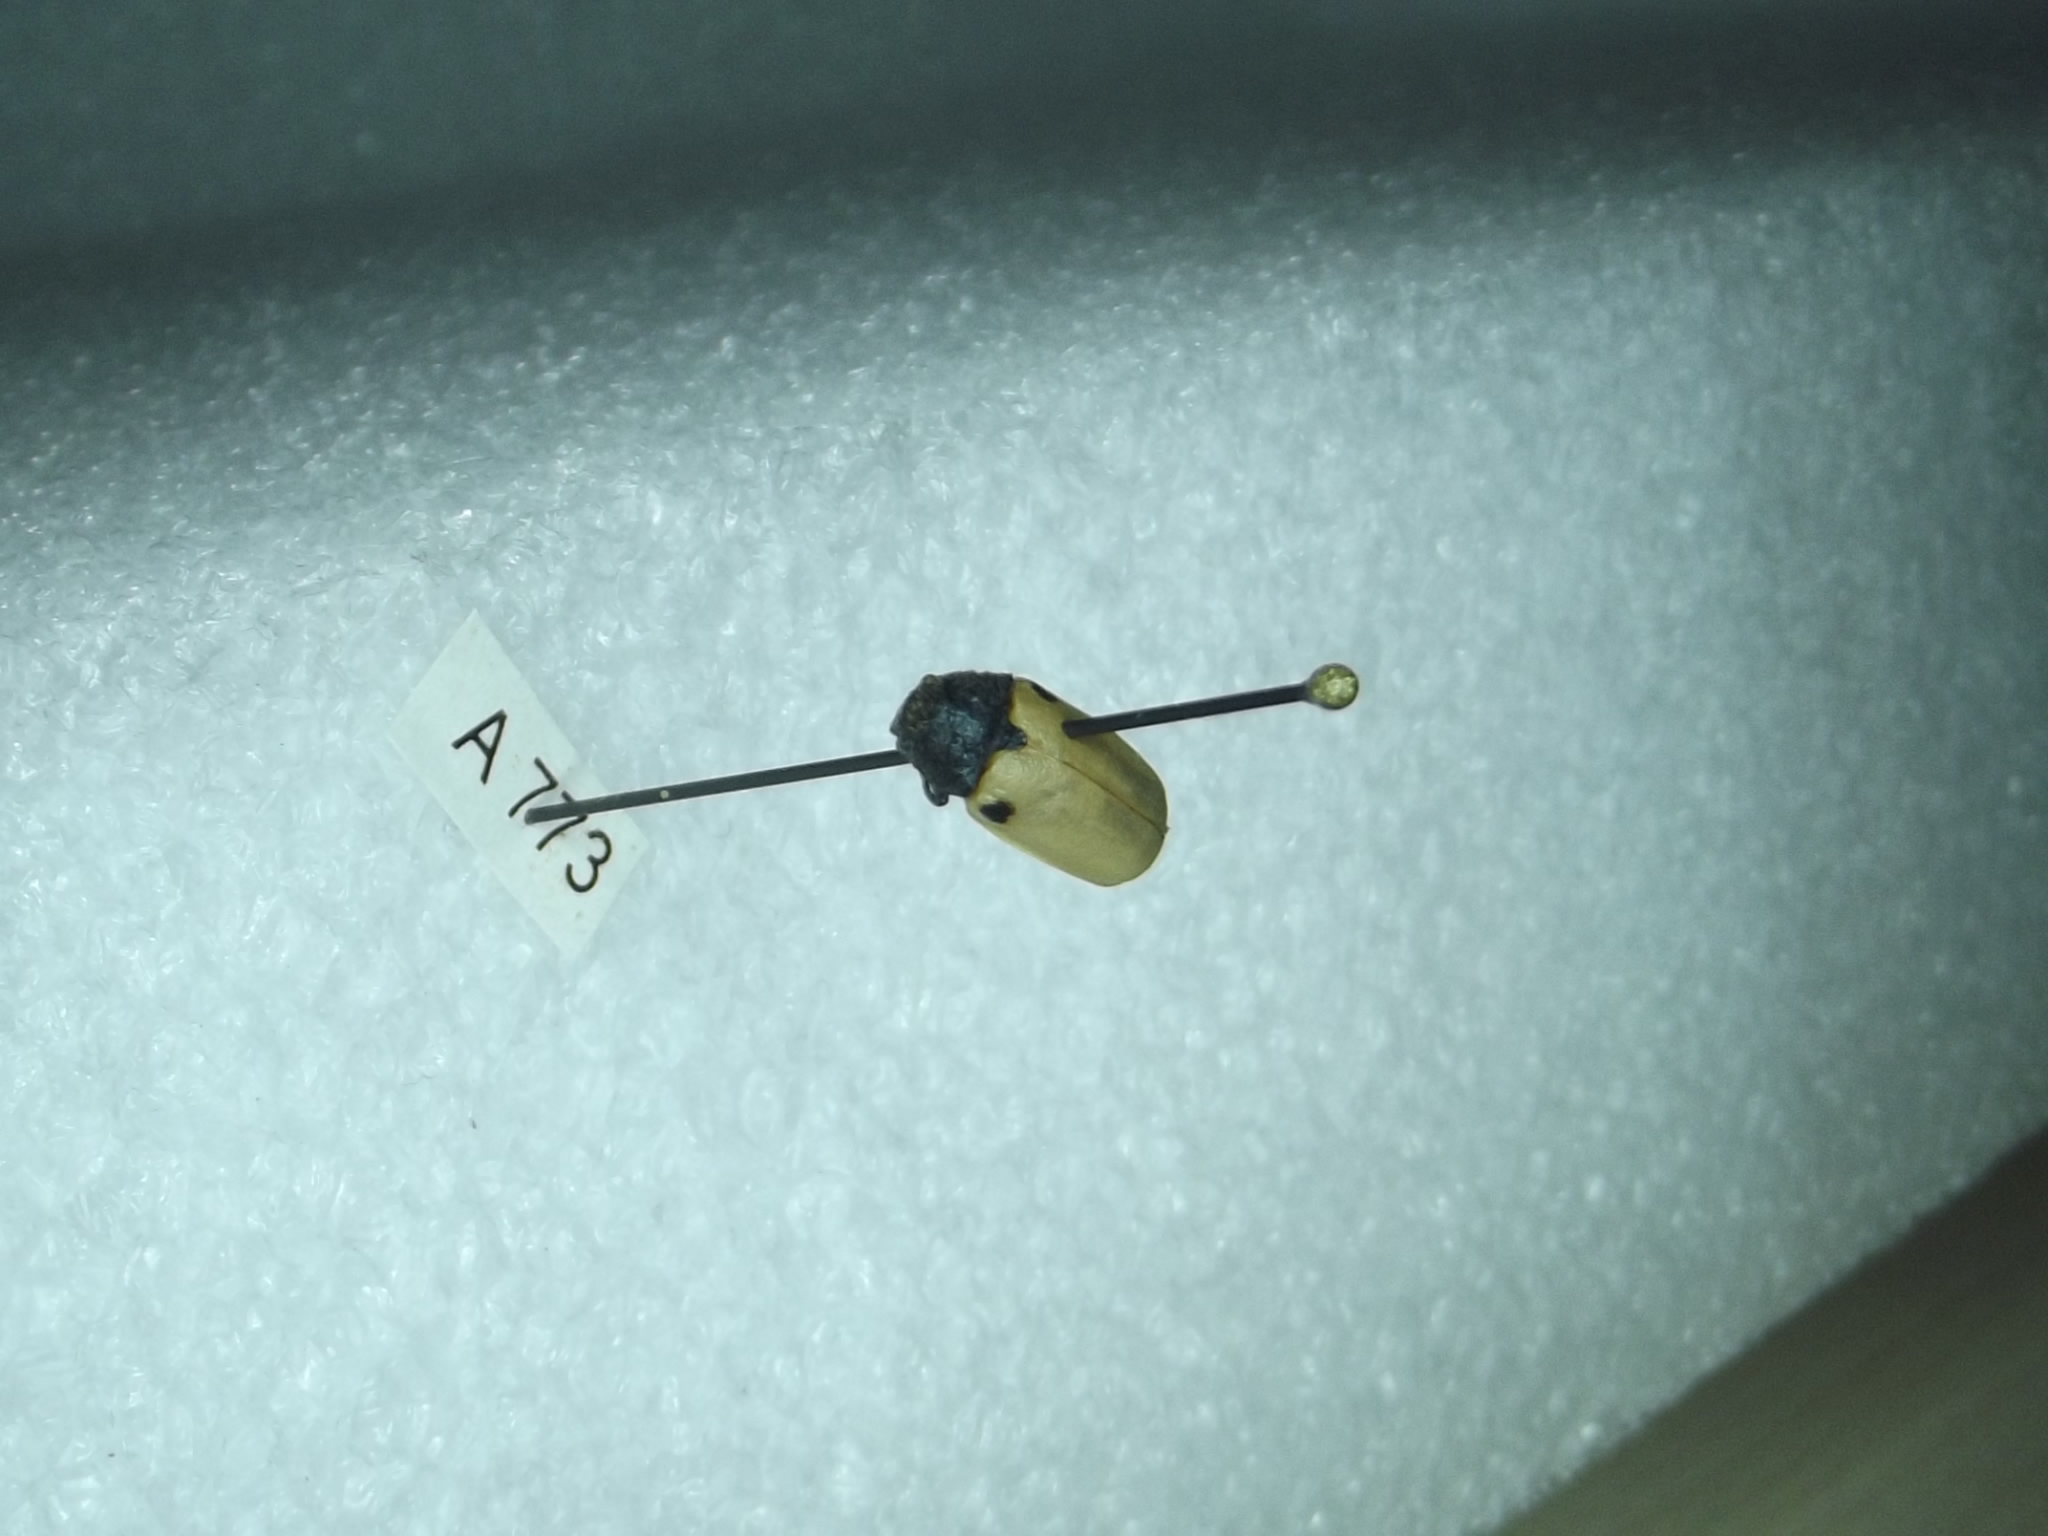Labidostomis_propinqua: (898, 655, 1182, 929)
